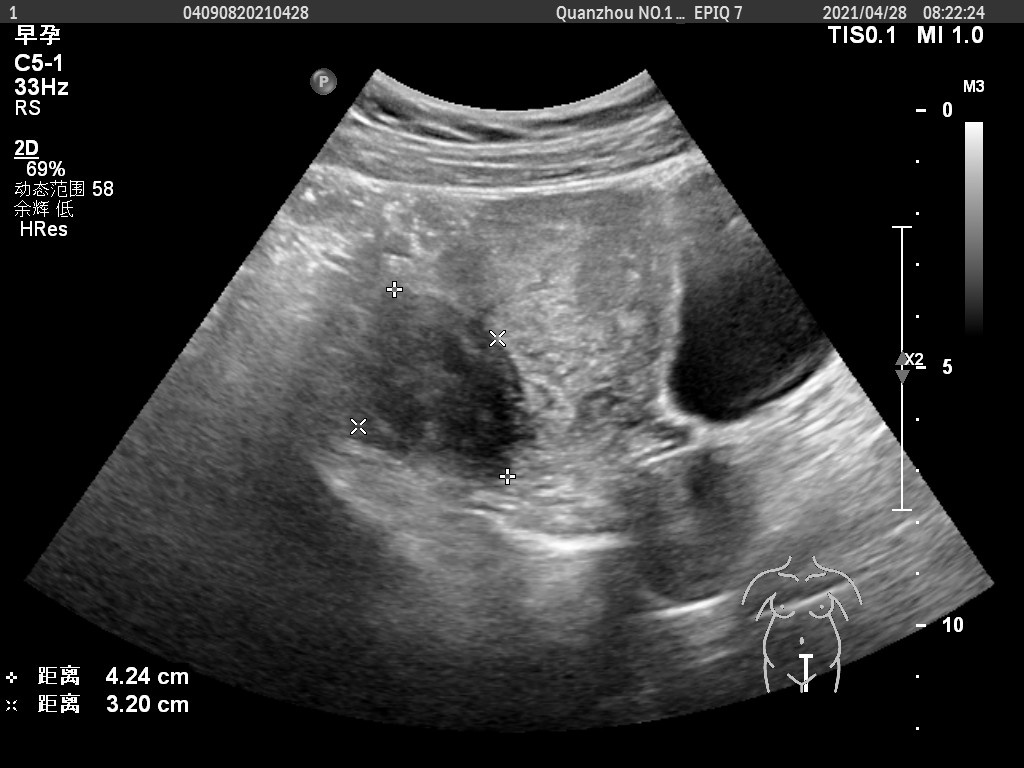肌瘤: (360, 291, 516, 480)
